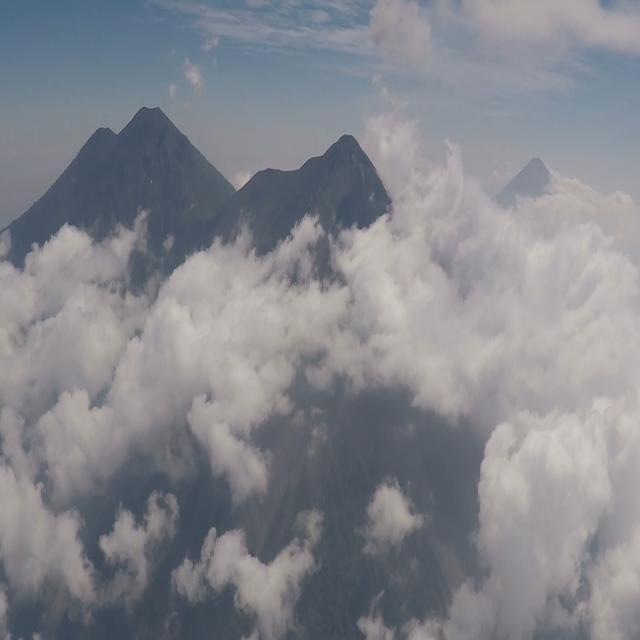Summit: (301, 129, 378, 179)
